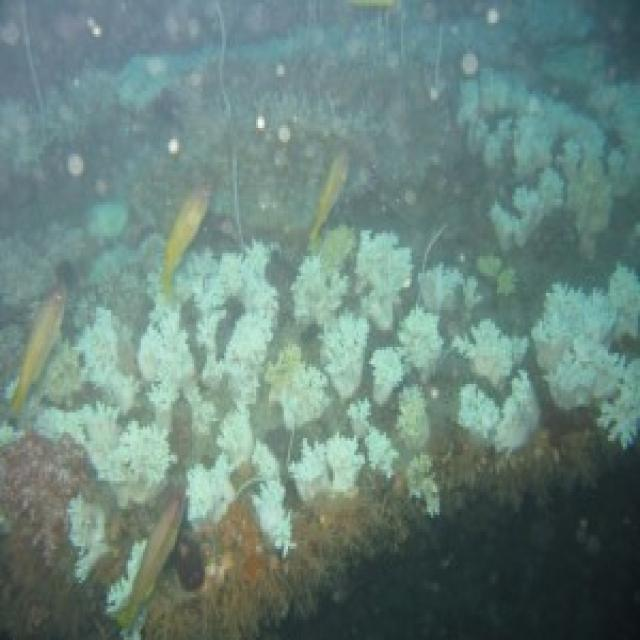Bleached: (460, 52, 613, 254), (44, 402, 176, 504), (206, 243, 278, 405), (532, 283, 624, 408), (187, 411, 251, 524), (138, 303, 193, 416), (357, 231, 411, 328), (268, 345, 330, 428), (455, 320, 526, 382), (293, 254, 347, 325), (323, 314, 368, 399), (598, 359, 639, 442), (498, 371, 539, 450), (400, 305, 443, 379), (253, 479, 293, 556), (419, 263, 481, 311), (193, 254, 240, 314), (78, 308, 116, 379), (458, 385, 500, 442), (289, 442, 330, 496), (609, 266, 639, 337), (365, 425, 399, 482), (327, 439, 364, 490), (374, 348, 404, 405)
